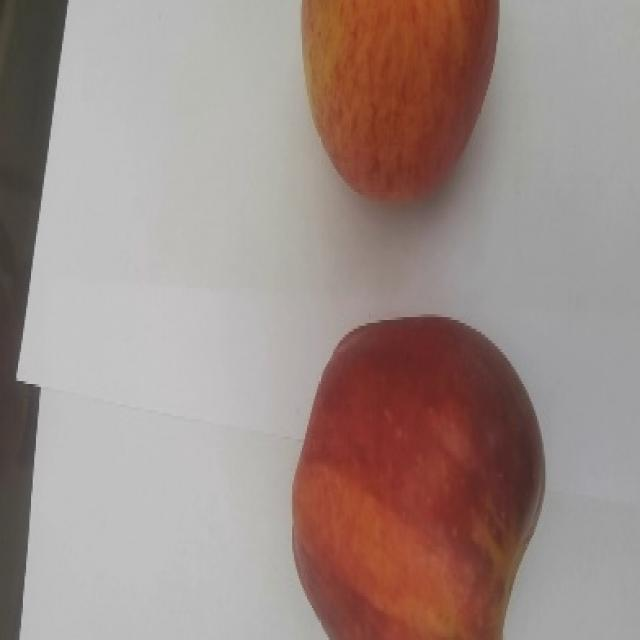Apple: (290, 314, 546, 639), (299, 0, 499, 204)
